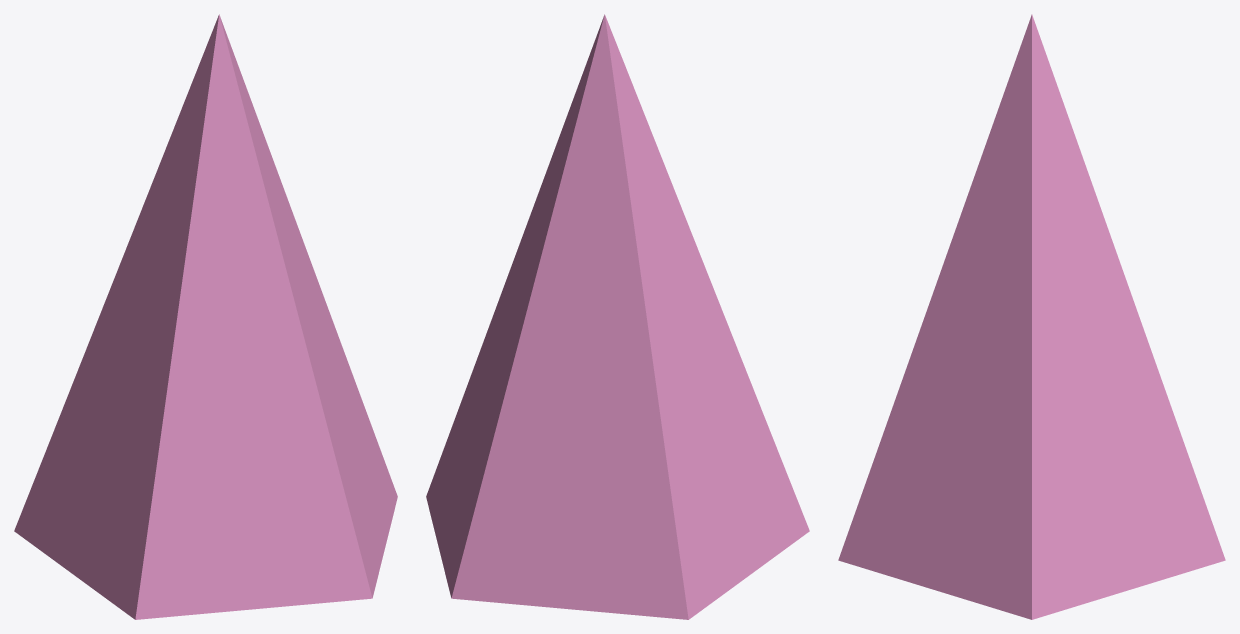
File: coral_deco.fbx
The picture shows the model from 3 angles, left to right: view 1: azimuth 30°, elevation 25°; view 2: azimuth 150°, elevation 25°; view 3: azimuth 270°, elevation 25°; orthographic projection.
Visible parts, largest first — view 1: Coral_Deco_14; view 2: Coral_Deco_14; view 3: Coral_Deco_14.
Part boxes in pixels (<box>): Coral_Deco_14: <box>14,14,397,619</box>; Coral_Deco_14: <box>426,14,809,619</box>; Coral_Deco_14: <box>838,14,1225,619</box>.
Bounding box in the file's own units: 42.38 × 65.94 × 44.56.
